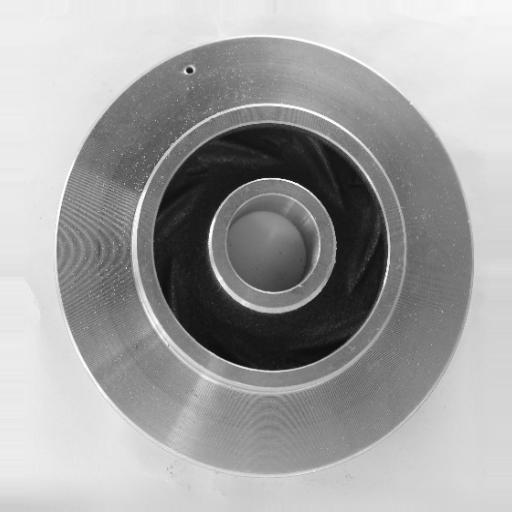pit: (179, 56, 203, 81)
unpolished_casting: (55, 34, 476, 478)
